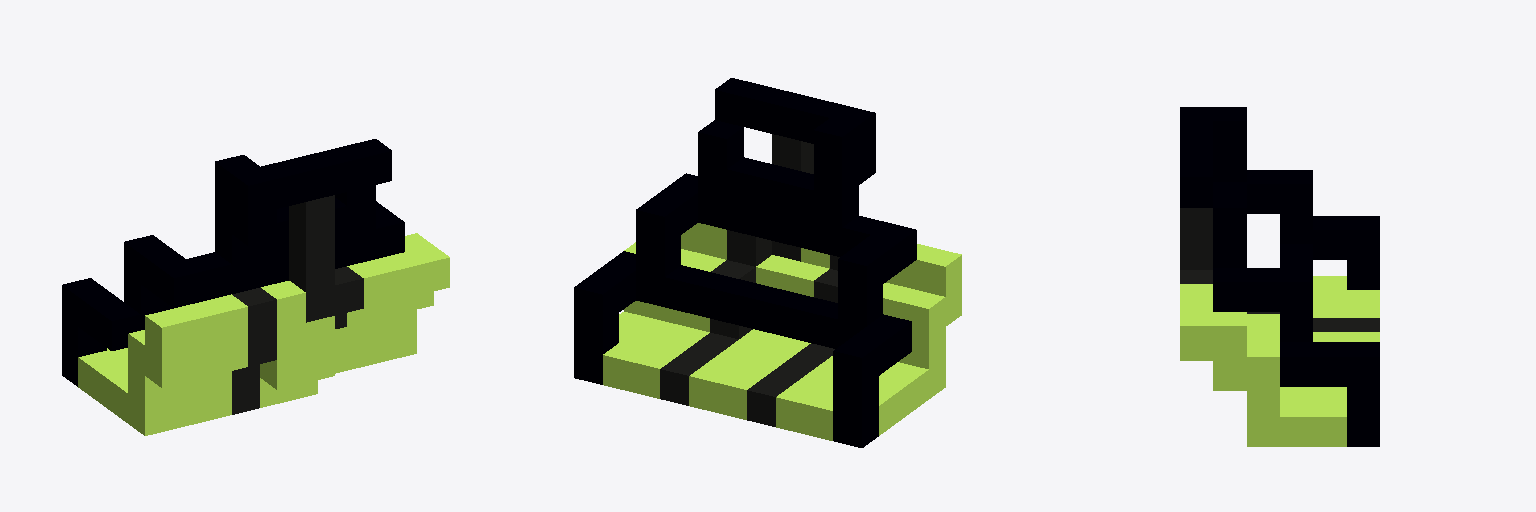
3 renders of one model, left to right at view 1: azimuth 30°, elevation 25°; view 2: azimuth 150°, elevation 25°; view 3: azimuth 270°, elevation 25°, orthographic.
Parts seen in each view (by area): view 1: alal1; view 2: alal1; view 3: alal1.
Part boxes in pixels (x1,y1,x2,y2): alal1: (62,139,449,435); alal1: (574,78,961,447); alal1: (1180,107,1379,446).
Bounding box in the file's own units: 1.29 × 1.03 × 0.7741.
Materials: 1 (1 with a texture image).